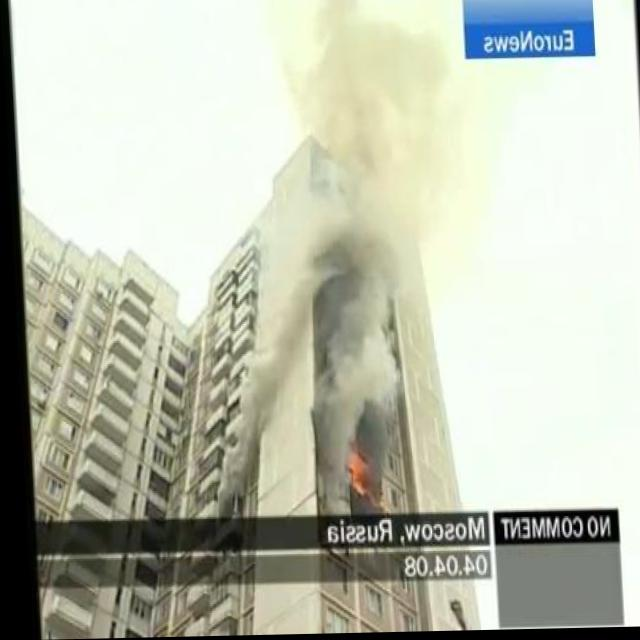fire: (339, 448, 363, 496)
